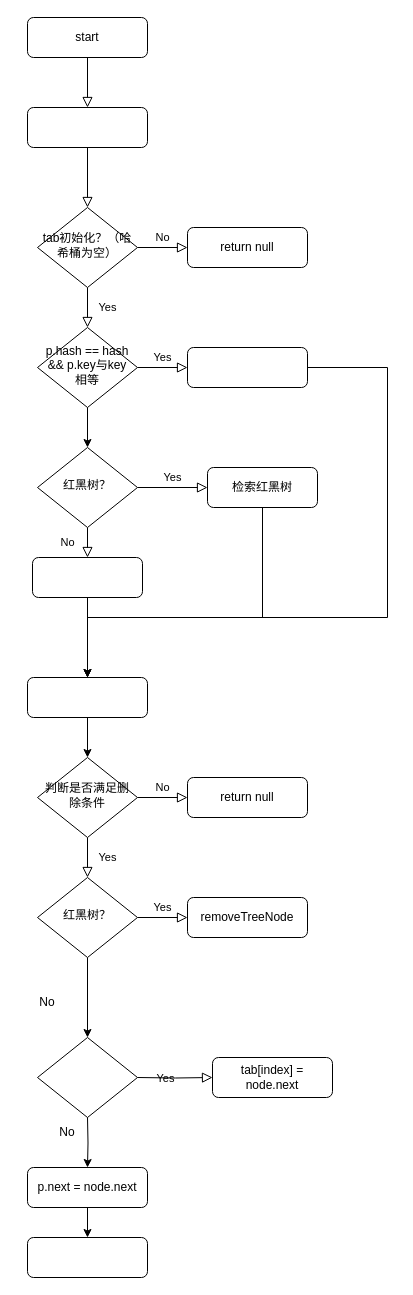
Some shapes in this 413 by 1295 pixel diagram are drawn without their labels. Each missing label, with the centre of its shape:
node = p: point (247, 367)
找到要删除的node: point (87, 697)
检索链表: point (87, 577)
计算hash值，确定bucket index: point (87, 127)
返回删除节点: point (87, 1257)
链表只有一个节点？: point (87, 1077)
